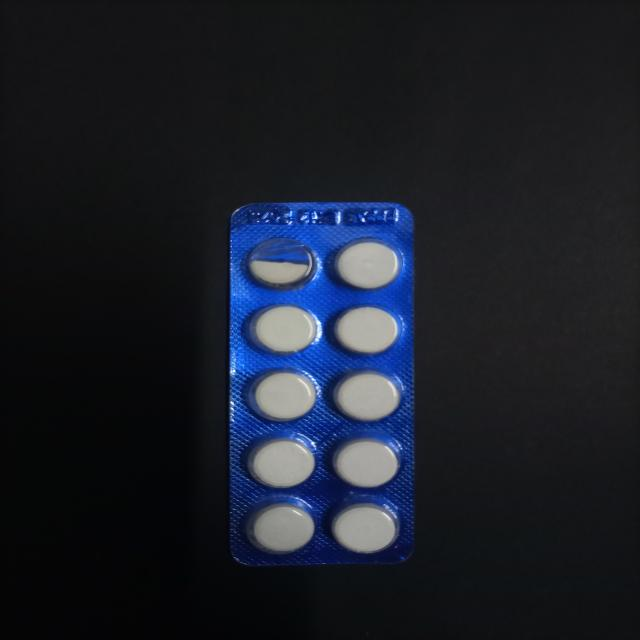defect: (241, 235, 323, 292)
